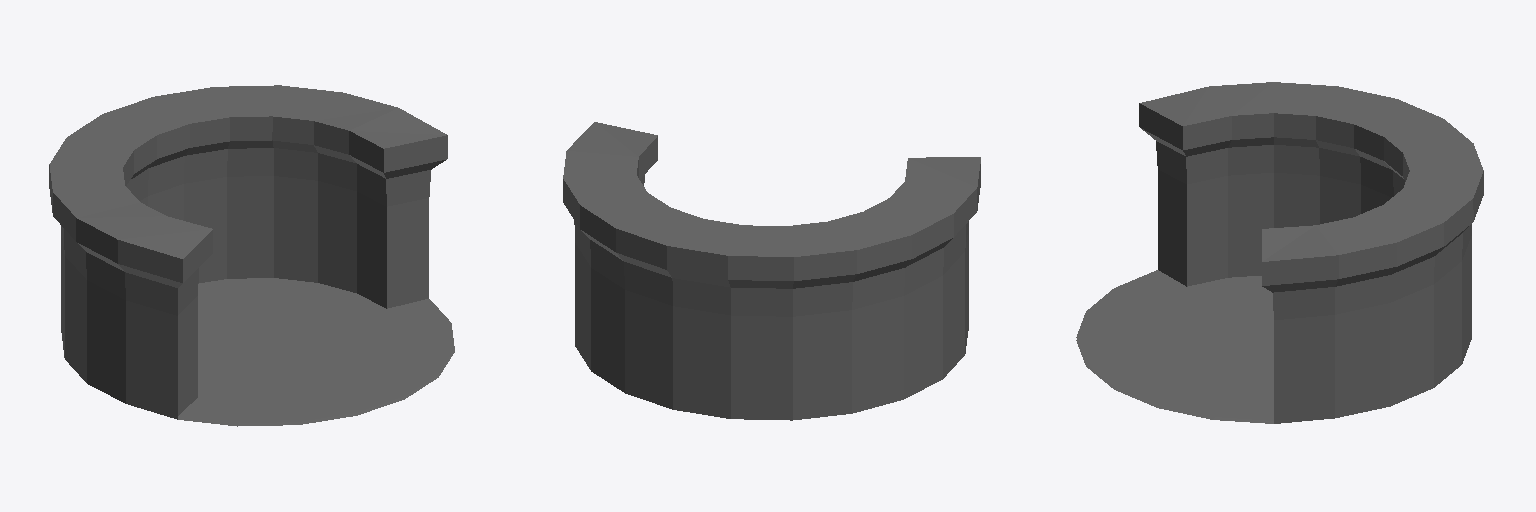
File: Two.obj
The picture shows the model from 3 angles: view 1: azimuth 30°, elevation 25°; view 2: azimuth 150°, elevation 25°; view 3: azimuth 270°, elevation 25°; orthographic projection.
Parts seen in each view (by area): view 1: Cylinder001; view 2: Cylinder001; view 3: Cylinder001.
Part boxes in pixels (bbox=[...]): Cylinder001: bbox=[49, 85, 454, 426]; Cylinder001: bbox=[563, 122, 980, 420]; Cylinder001: bbox=[1076, 82, 1483, 423].
Size of the model in its own units: 105 by 46.49 by 101.